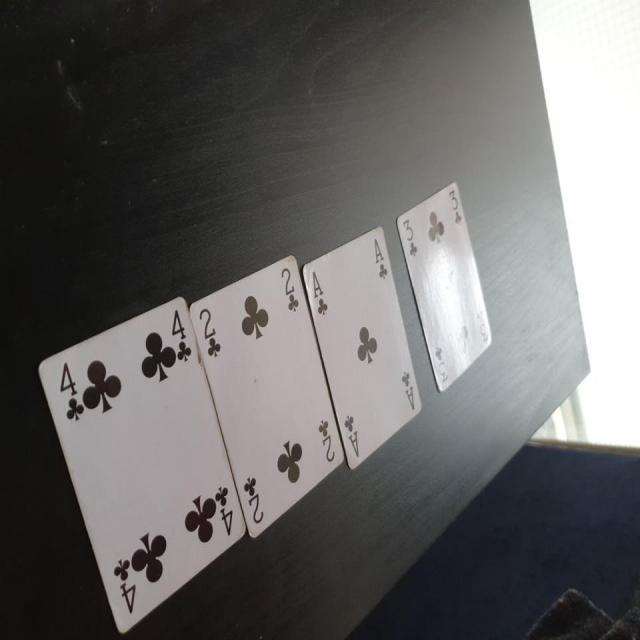2 Trefoils: (190, 250, 347, 540)
3 Trefoils: (395, 181, 494, 394)
4 Trefoils: (38, 294, 245, 635)
A Trefoils: (302, 223, 423, 472)
